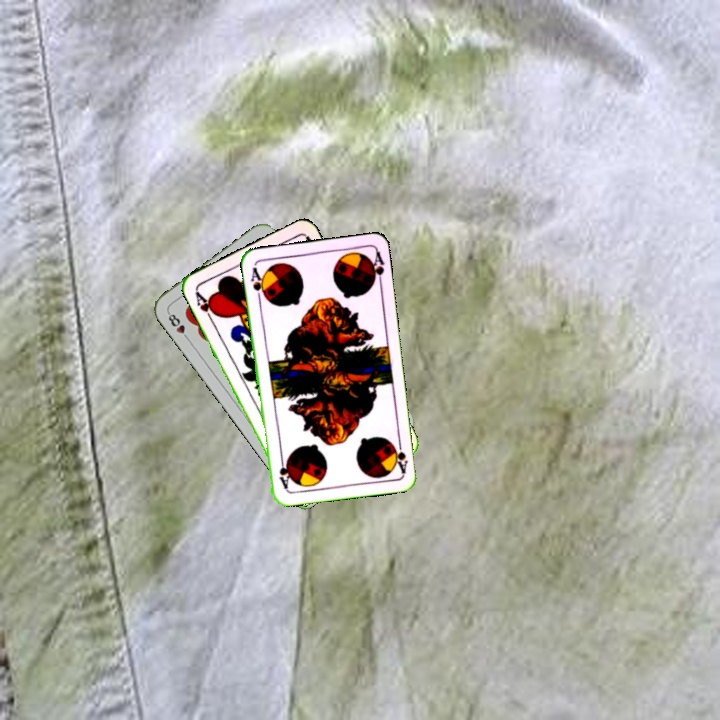H8: (164, 308, 192, 343)
HA: (191, 286, 220, 324)
SA: (388, 435, 410, 476), (247, 263, 269, 303)
